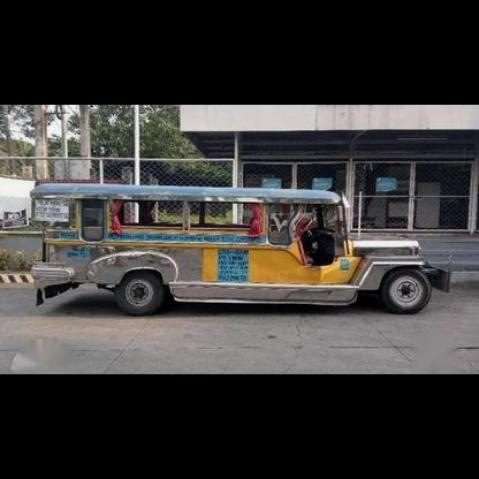jeepney: (29, 173, 453, 338)
